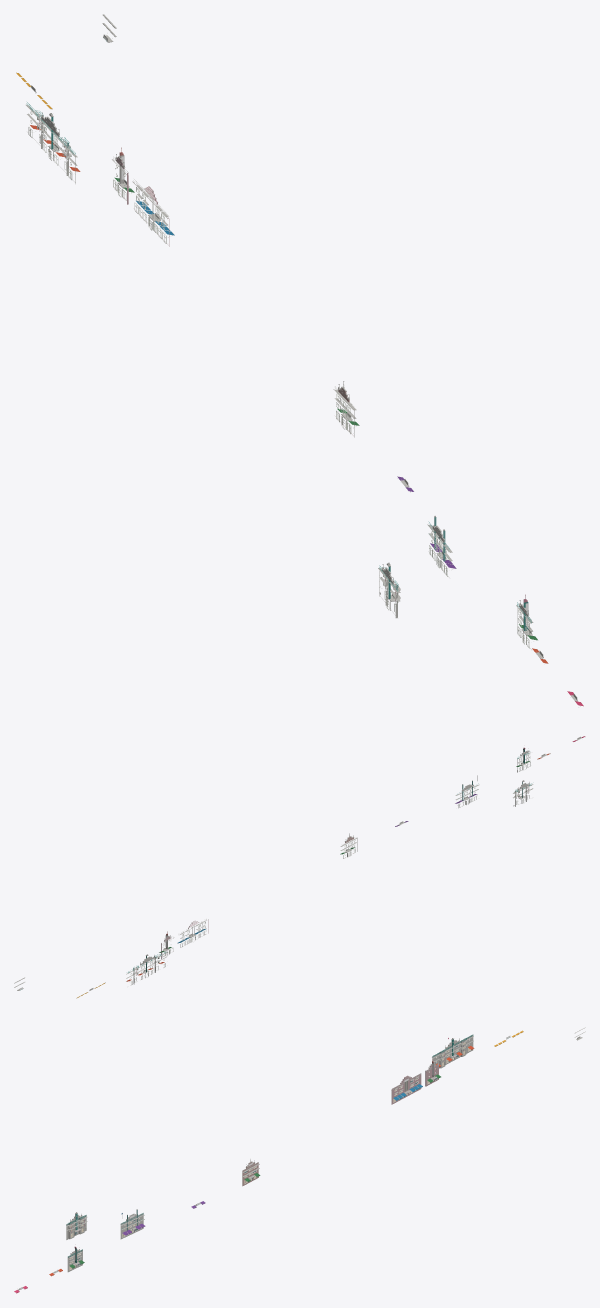
The model's file is facades.glb.
The picture shows the model from 3 angles, top to bottom: view 1: azimuth 30°, elevation 25°; view 2: azimuth 150°, elevation 25°; view 3: azimuth 330°, elevation 25°; orthographic projection. The views are drawn at different scales.
Visible parts, largest first — view 1: OceanDrive_paint (×2), OceanDrive_metal (×2); view 2: OceanDrive_paint (×2), OceanDrive_metal (×2); view 3: OceanDrive_paint (×2).
Part boxes in pixels (bbox=[...]): OceanDrive_paint (×2): bbox=[26, 102, 577, 701]; OceanDrive_metal (×2): bbox=[28, 111, 583, 706]; OceanDrive_paint (×2): bbox=[126, 736, 581, 984]; OceanDrive_metal (×2): bbox=[126, 737, 581, 985]; OceanDrive_paint (×2): bbox=[18, 1034, 473, 1290].
Bounding box in the file's own units: 123 × 16.02 × 462.
